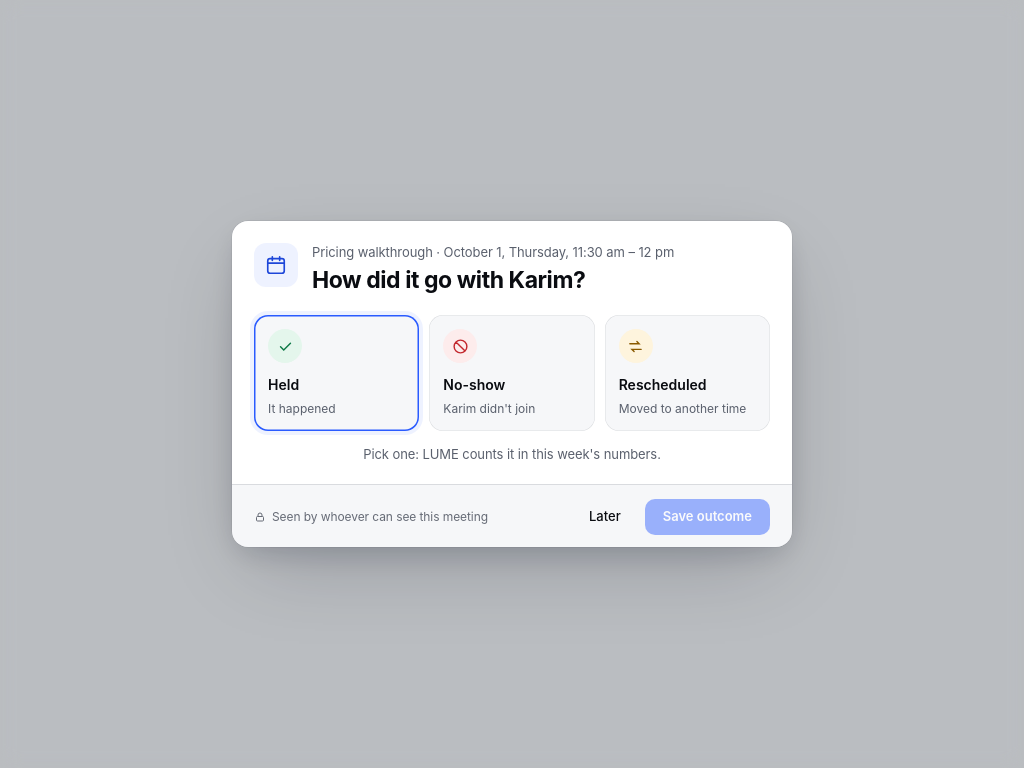
Test: Log outcome › Review Focus 4: logged by someone else meanwhile, it says who, keeps the note, and changes nothing more
Step 1. Click the radio button labelled "Held It happened" → (337,373), box [254, 315, 419, 431]
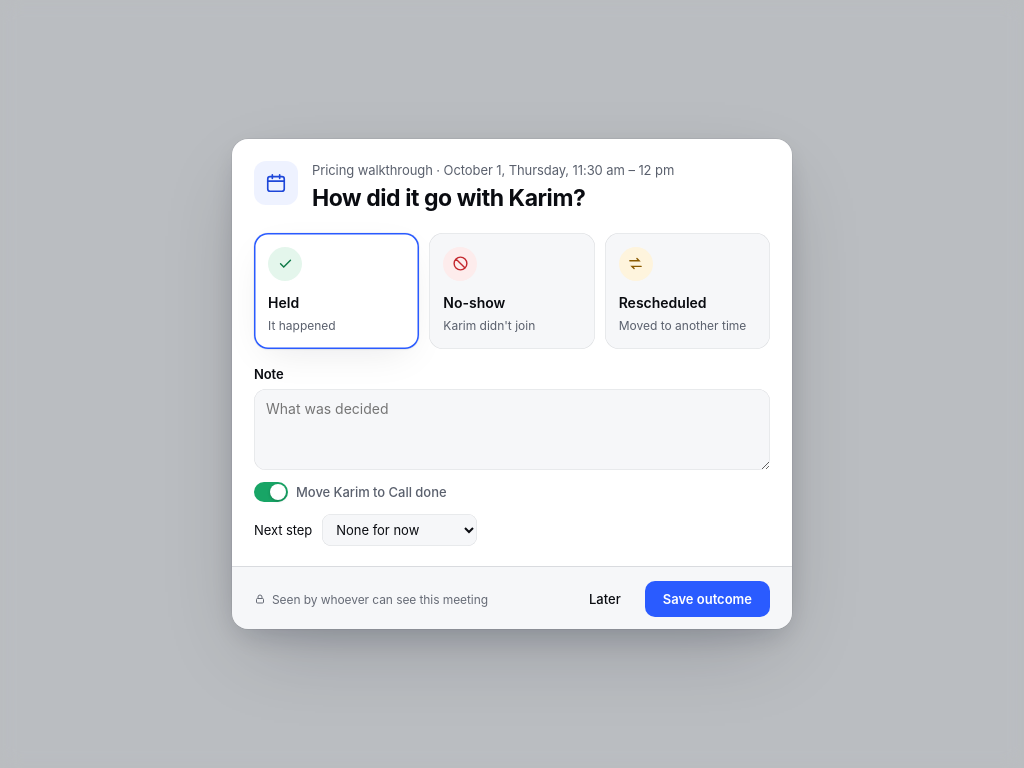
Step 2. Type "My notes from the call" into the text box labelled "Note" → (512,430), box [254, 389, 770, 470]
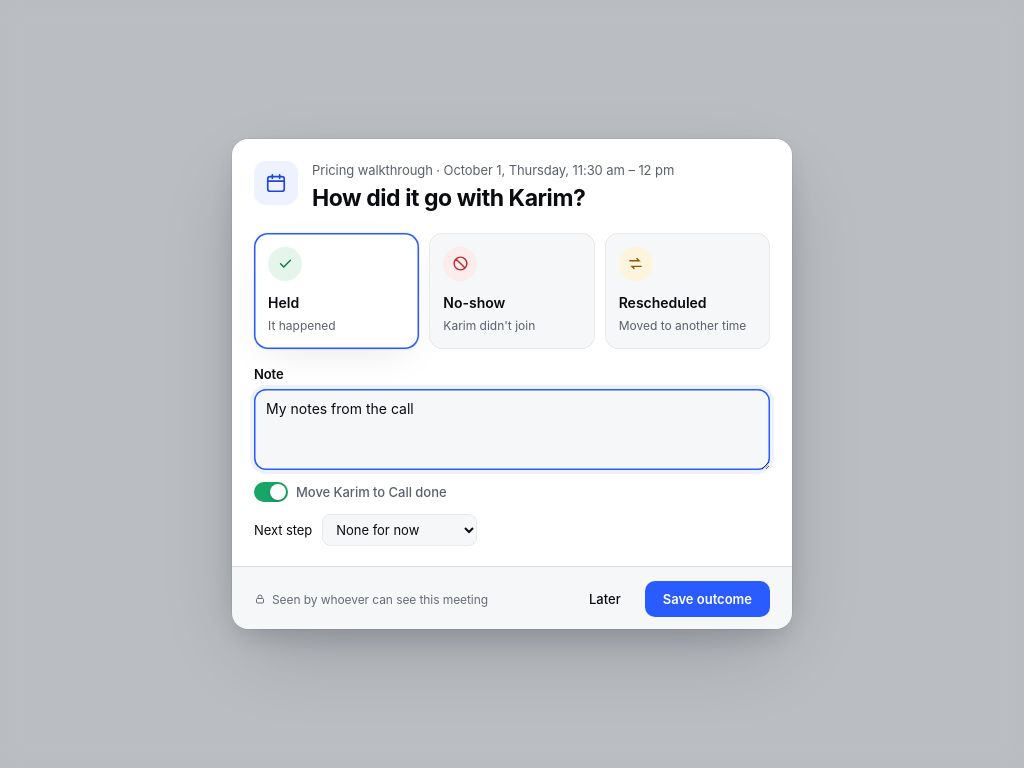
Step 3. Click the button "Save outcome" → (707,599), box [645, 581, 770, 617]
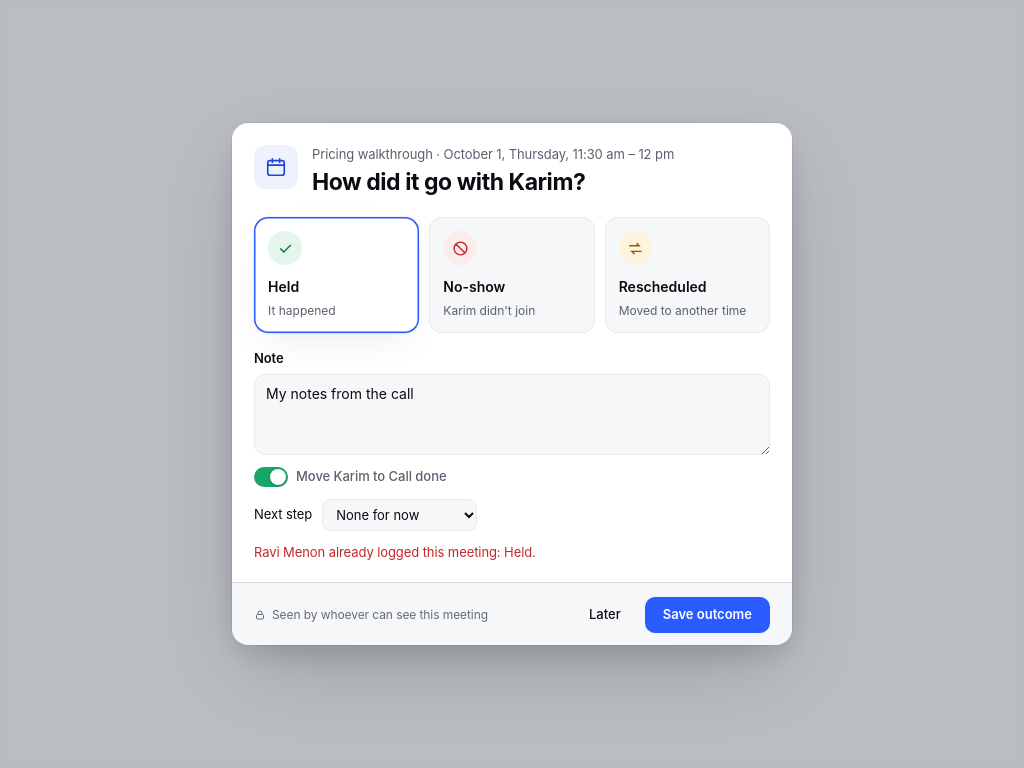
Now the message reads "Ravi Menon already logged this meeting: Held.", box [254, 544, 536, 560]
